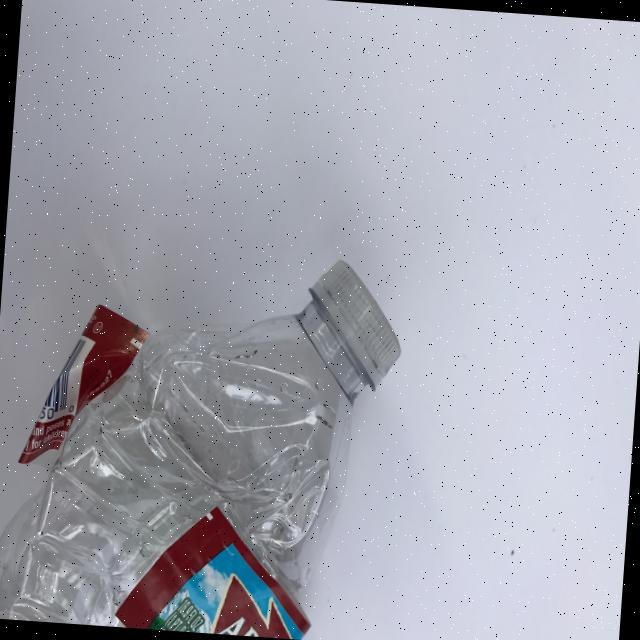plastic: (0, 234, 406, 640)
